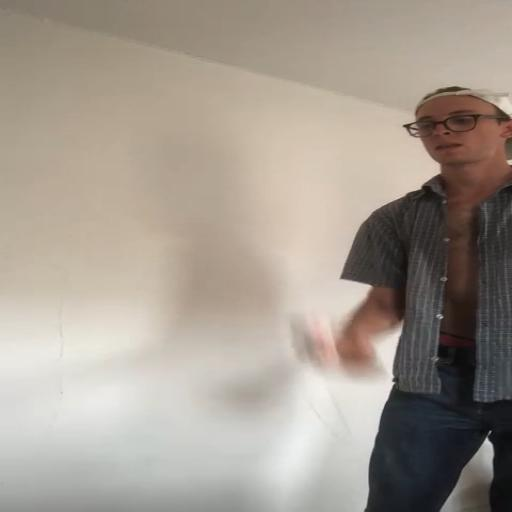kendama_ball: (291, 316, 341, 368)
